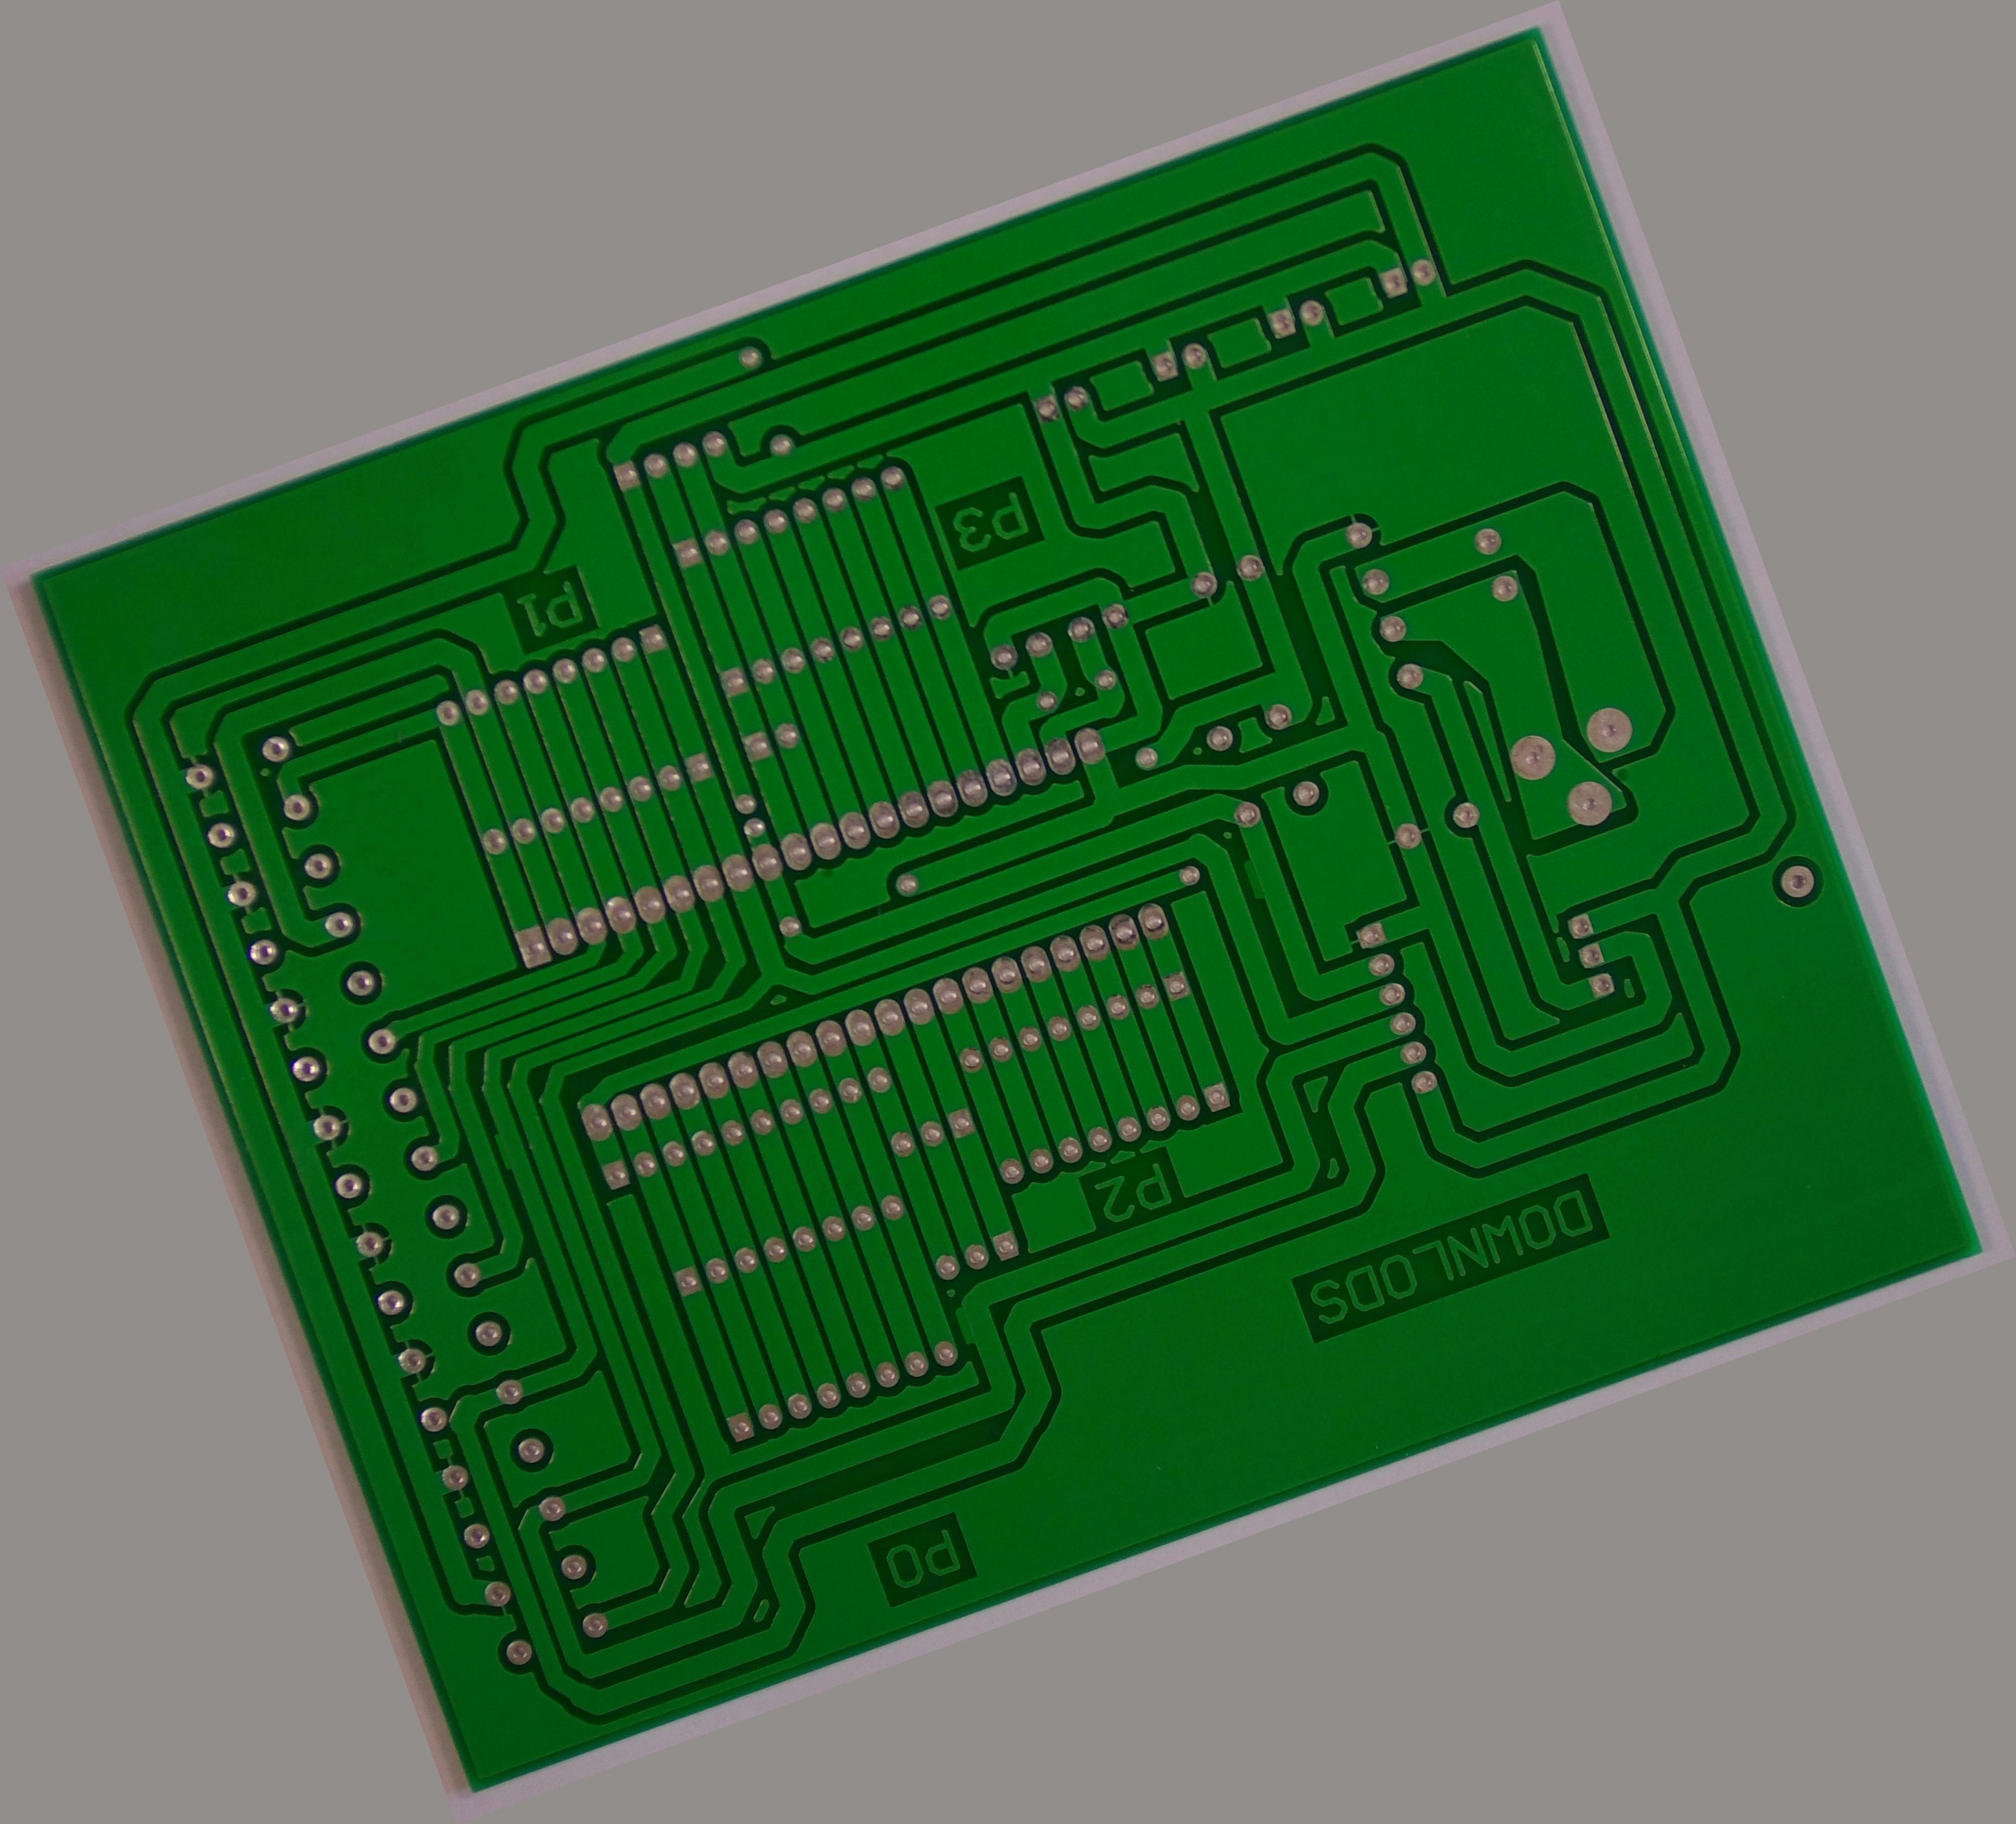spur: (1233, 844, 1273, 904), (945, 1296, 987, 1350), (486, 1118, 525, 1174)
